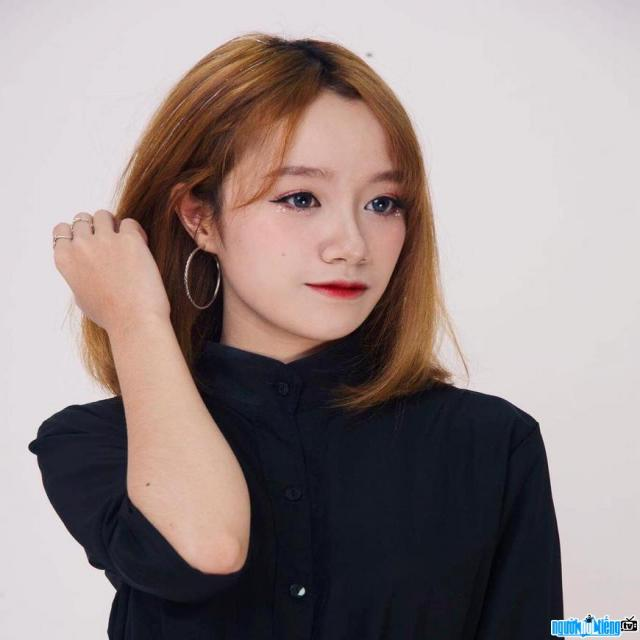clothes: (25, 348, 561, 640)
